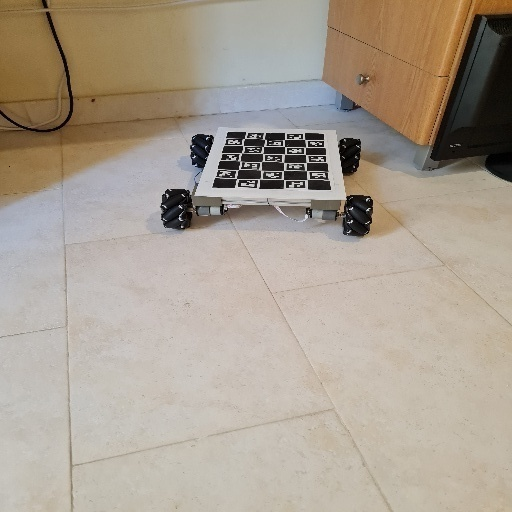Omniwheel: (161, 126, 374, 237)
